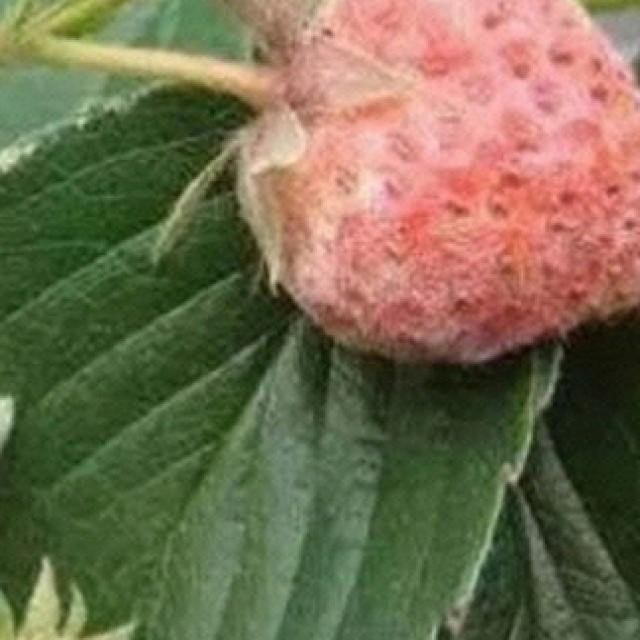Powdery Mildew Fruit: (222, 0, 640, 367)
